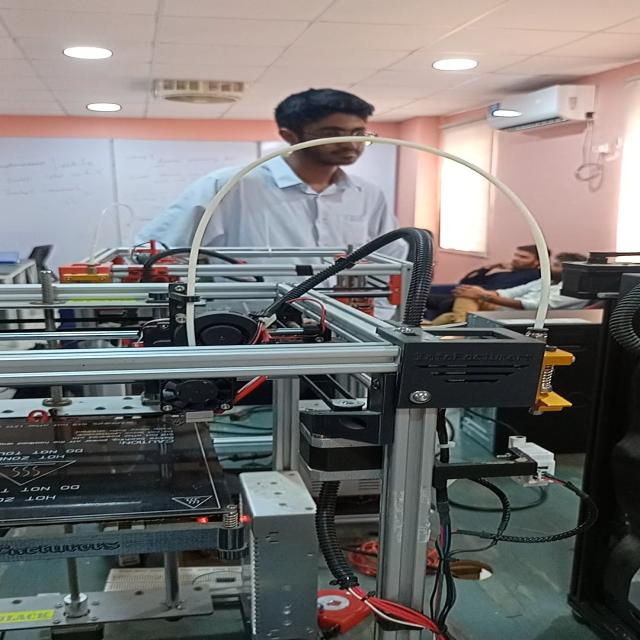dress: (147, 150, 391, 262)
